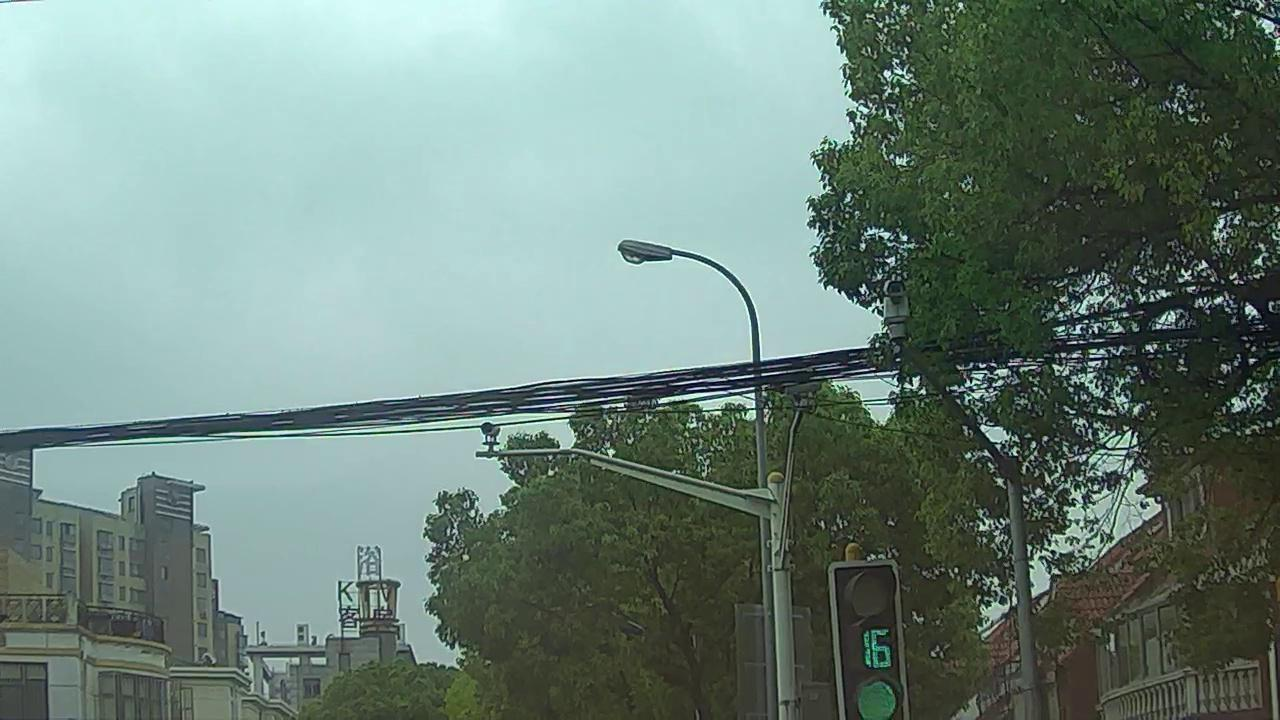traffic_light: (832, 568, 905, 720)
